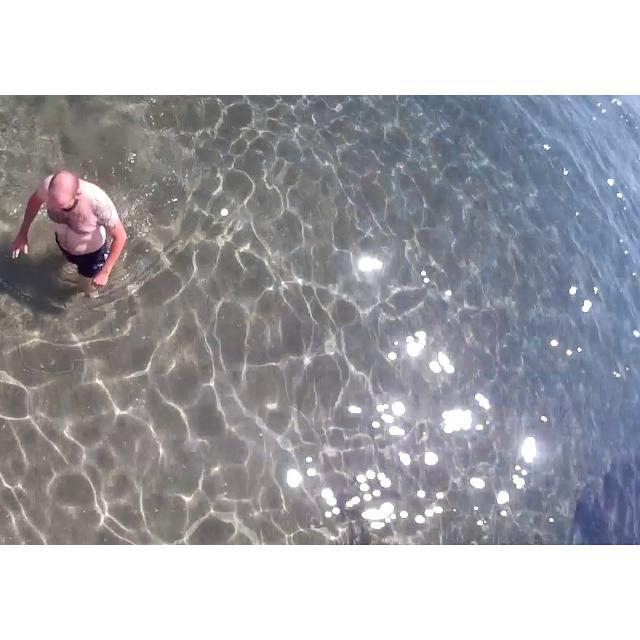human: (13, 162, 134, 297)
